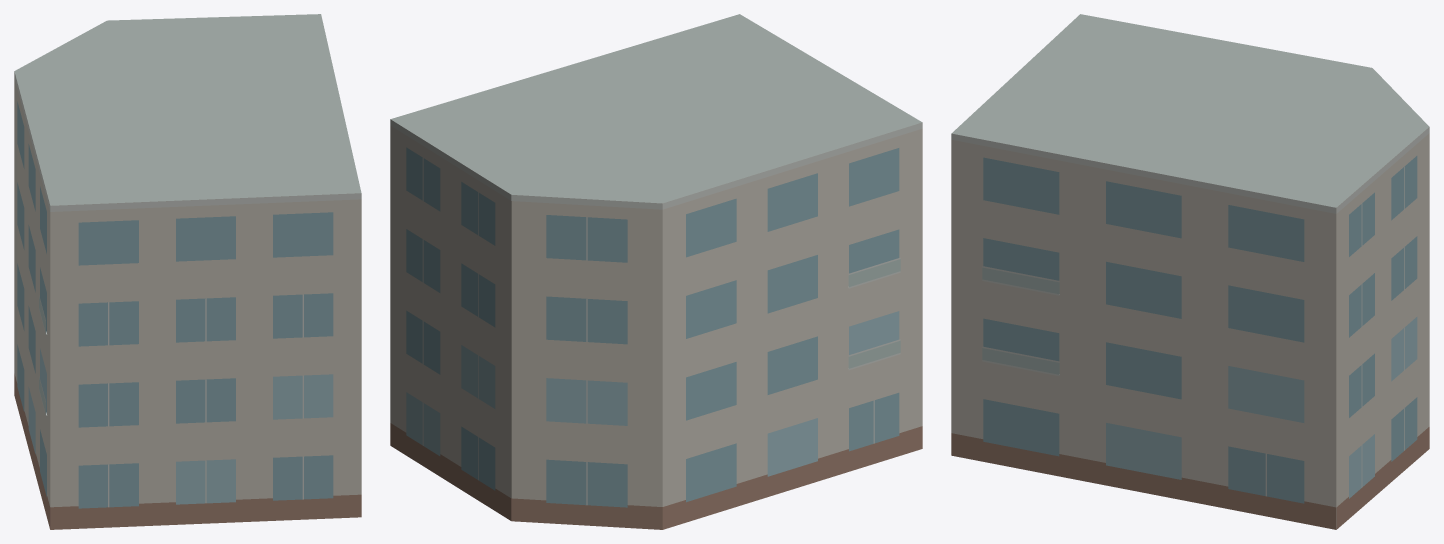
Rendered from survey-upis-33036952.glb.
The picture shows the model from 3 angles, left to right: view 1: azimuth 30°, elevation 25°; view 2: azimuth 150°, elevation 25°; view 3: azimuth 270°, elevation 25°; orthographic projection.
Parts seen in each view (by area): view 1: survey-upis-33036952.tmp; view 2: survey-upis-33036952.tmp; view 3: survey-upis-33036952.tmp.
Part boxes in pixels (x1,y1,x2,y2): survey-upis-33036952.tmp: (14, 14, 361, 529); survey-upis-33036952.tmp: (390, 14, 922, 529); survey-upis-33036952.tmp: (951, 14, 1429, 529).
Size of the model in its own units: 16.53 by 12.8 by 17.23.
